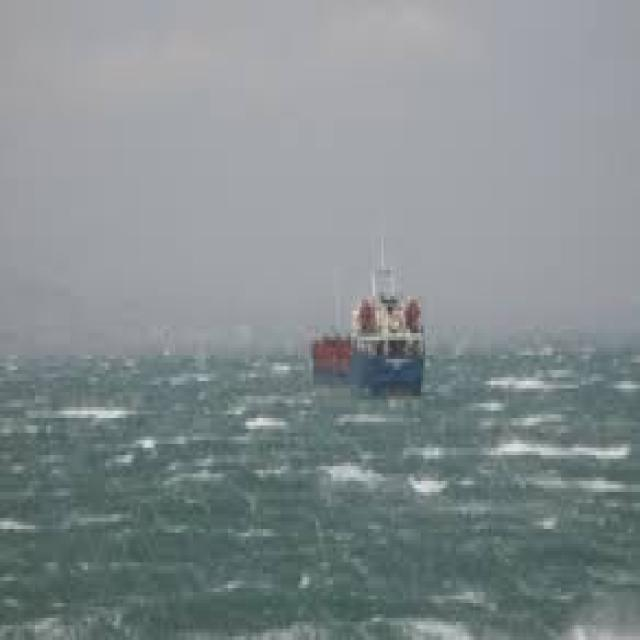cargoship: (313, 262, 426, 398)
